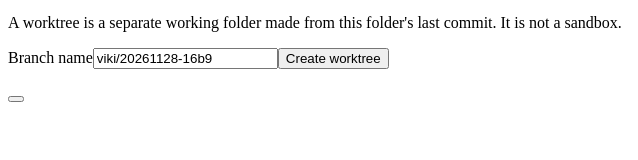
a failure with no code says the plain words
The width and height of the screenshot is (638, 160).
Replace the text in the field labelled "Branch name" with "viki/x": (185, 58) left=93, top=48, right=278, bottom=69
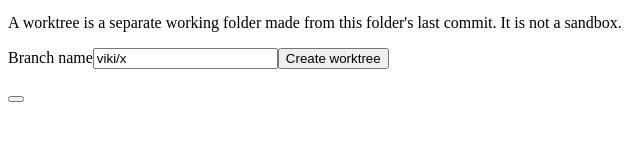
Click the button "Create worktree": (333, 58) left=278, top=48, right=389, bottom=69
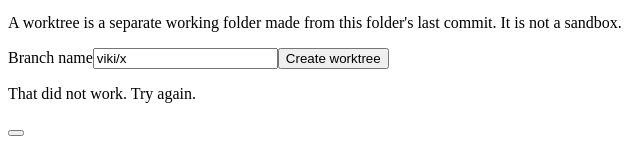
Expected: the message reads "That did not work. Try again.", left=8, top=85, right=196, bottom=102
